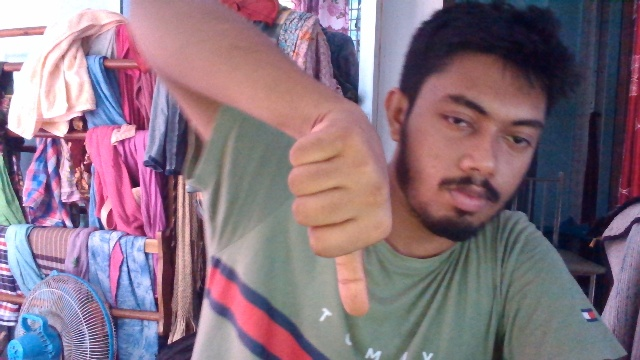no: (278, 77, 395, 322)
